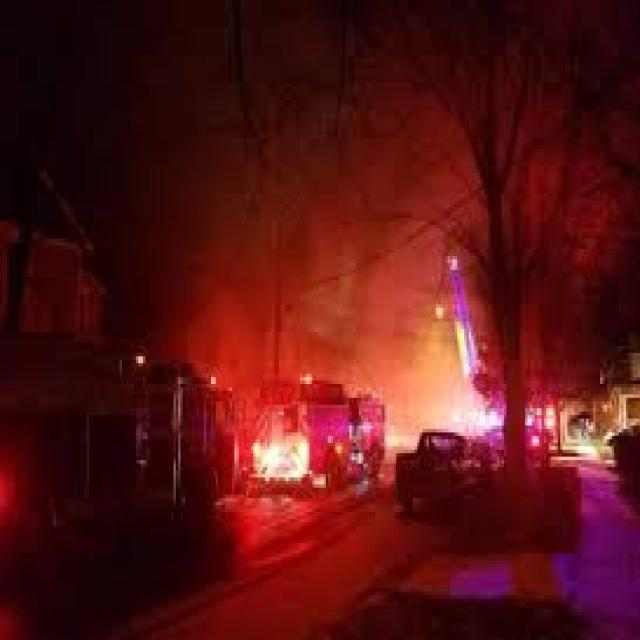Fire: (370, 296, 498, 467), (254, 437, 308, 482)
Smoke: (398, 31, 640, 297), (148, 80, 374, 300)
